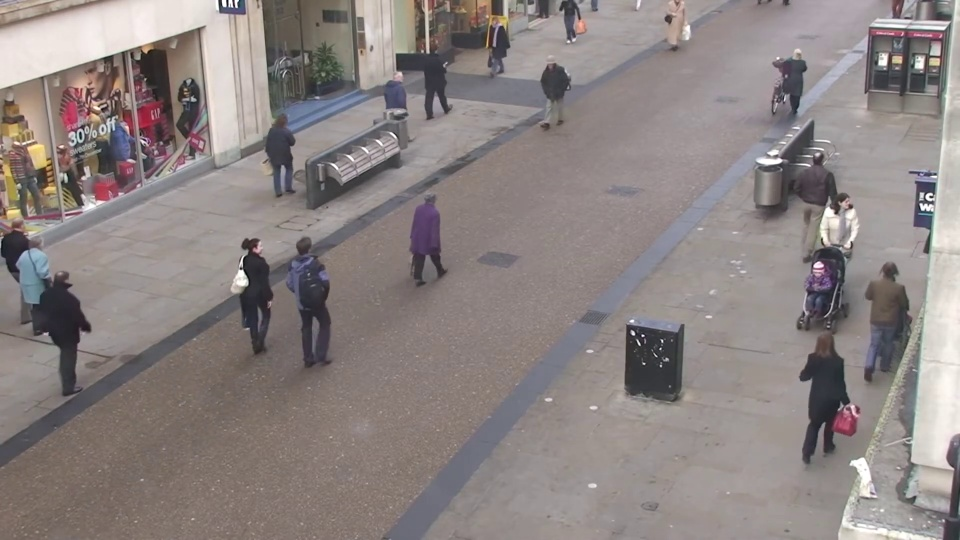pedestrian: (802, 315, 858, 464), (52, 259, 111, 390), (22, 225, 81, 348), (861, 247, 915, 379), (3, 210, 62, 329), (787, 256, 837, 390), (242, 229, 290, 353), (295, 228, 340, 353), (814, 189, 859, 306), (420, 180, 459, 293), (800, 146, 840, 251), (273, 110, 308, 202), (390, 67, 420, 148), (781, 44, 811, 122), (534, 55, 561, 134), (424, 41, 451, 115), (483, 15, 508, 83)
